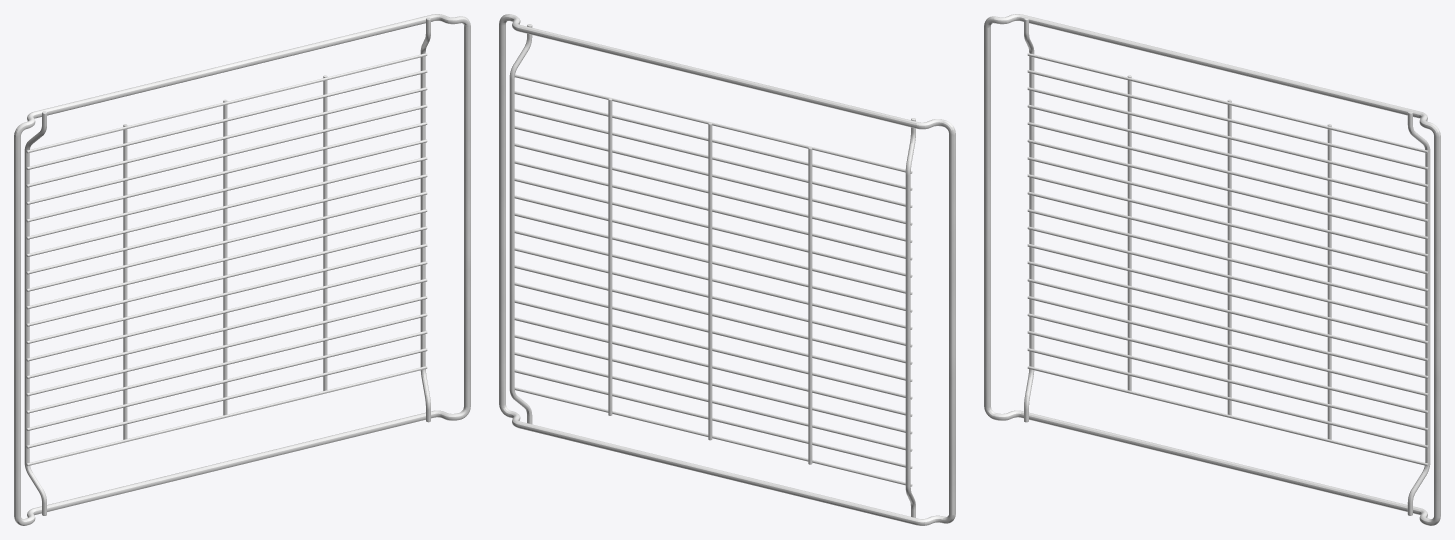
The model's file is SM_Oven_Grid.obj.
3 renders of one model, left to right at view 1: azimuth 30°, elevation 25°; view 2: azimuth 150°, elevation 25°; view 3: azimuth 330°, elevation 25°, orthographic.
Visible parts, largest first — view 1: SM_Oven_Grid; view 2: SM_Oven_Grid; view 3: SM_Oven_Grid.
Boxes of the visible parts, box(x1,y1,x2,y2) form: SM_Oven_Grid: box(14, 14, 470, 525); SM_Oven_Grid: box(499, 14, 955, 525); SM_Oven_Grid: box(984, 14, 1440, 525).
Bounding box in the file's own units: 0.456 × 0.3851 × 0.0353.
1 material, 1 textured.
